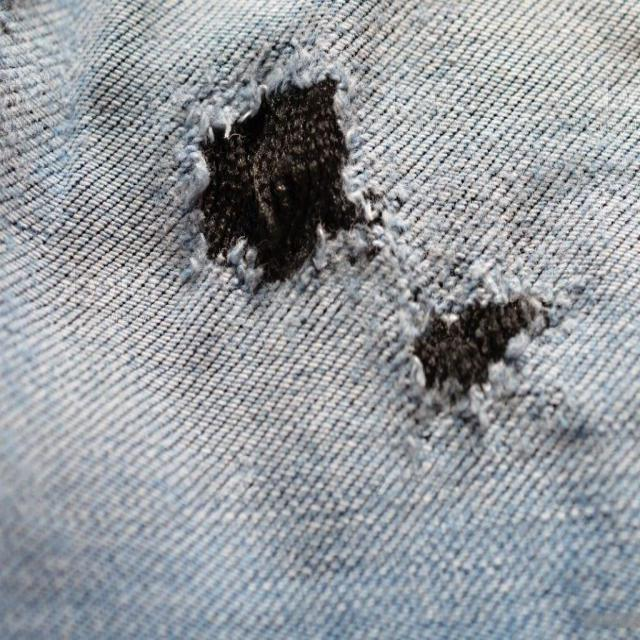Hole: (180, 76, 372, 292), (414, 295, 548, 396)
